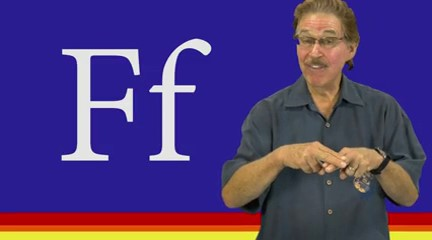F: (274, 137, 379, 192)
